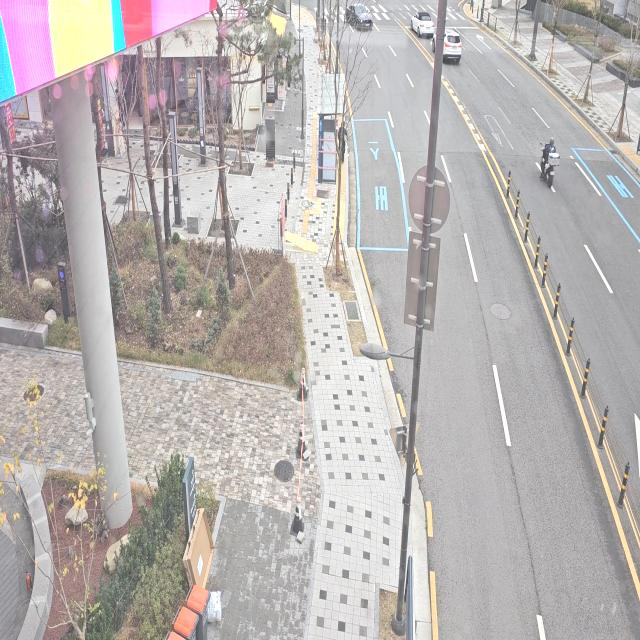Car: (433, 18, 472, 64), (342, 0, 376, 36), (409, 5, 439, 41)
Motorcycle: (536, 120, 560, 188)
